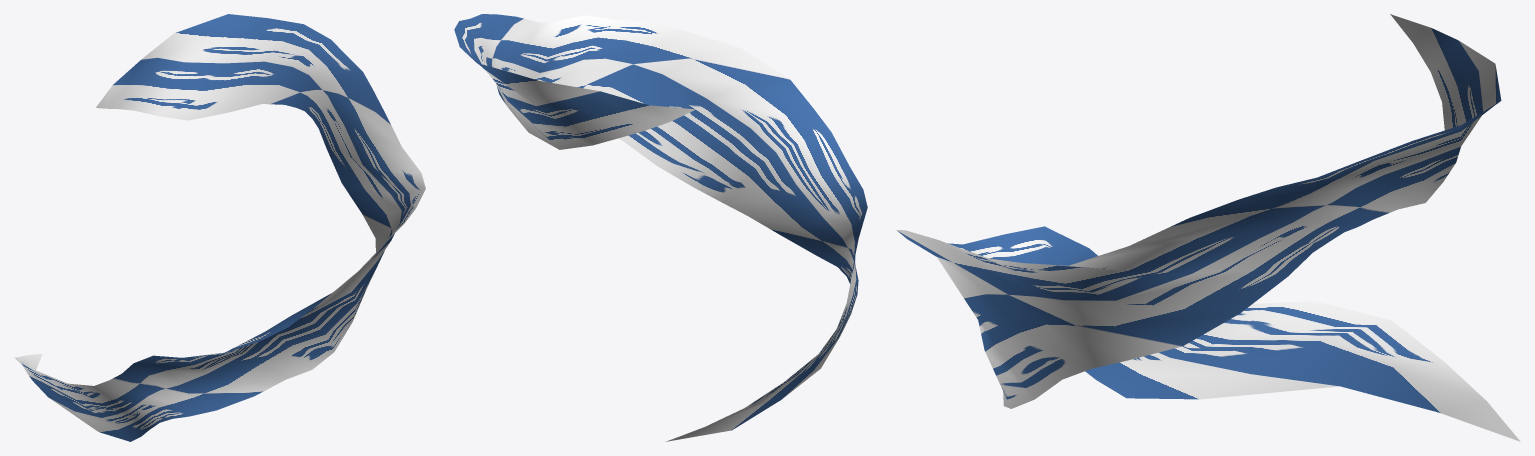
The model's file is Twist1.fbx.
3 views of the same model, side by side, from view 1: azimuth 30°, elevation 25°; view 2: azimuth 150°, elevation 25°; view 3: azimuth 270°, elevation 25° (orthographic). The views are drawn at different scales.
Visible parts, largest first — view 1: SM_e_Cmn_Twist001; view 2: SM_e_Cmn_Twist001; view 3: SM_e_Cmn_Twist001.
Part boxes in pixels (<box>): SM_e_Cmn_Twist001: <box>14,14,425,441</box>; SM_e_Cmn_Twist001: <box>454,14,867,441</box>; SM_e_Cmn_Twist001: <box>896,14,1520,441</box>.
Bounding box in the file's own units: 35.36 × 31.7 × 37.26.
1 material, 1 textured.
